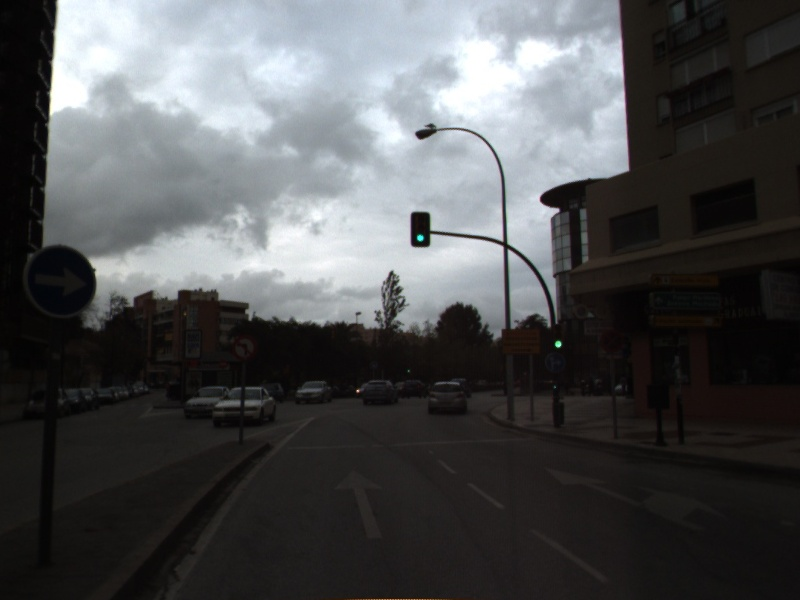STRAIGHT: (330, 466, 389, 542)
STRAIGHT_RIGHT: (541, 464, 732, 533)
